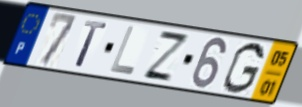6: (190, 36, 228, 90)
7: (41, 10, 80, 68)
G: (220, 41, 266, 96)
L: (107, 24, 137, 77)
T: (73, 18, 109, 70)
Z: (140, 28, 192, 84)
